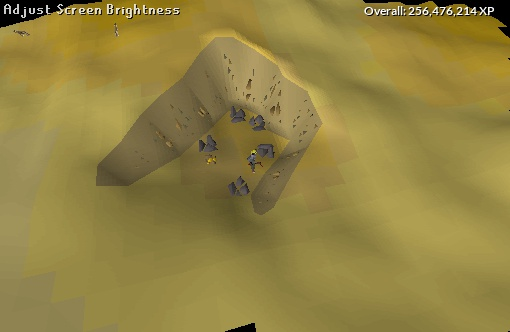depleted: (196, 132, 227, 156), (225, 103, 251, 127), (223, 175, 253, 193)
